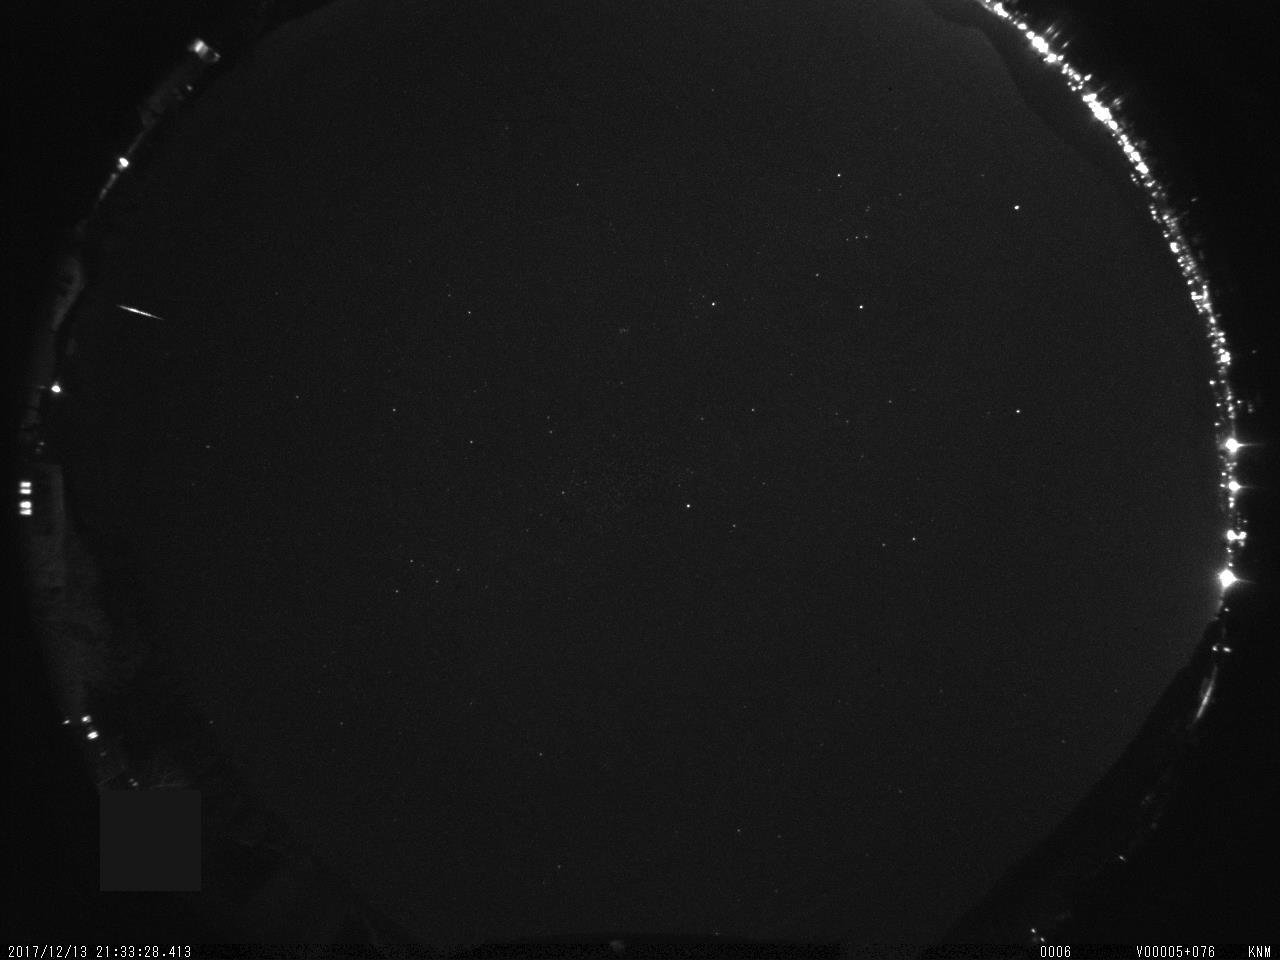meteor: (101, 280, 218, 361)
